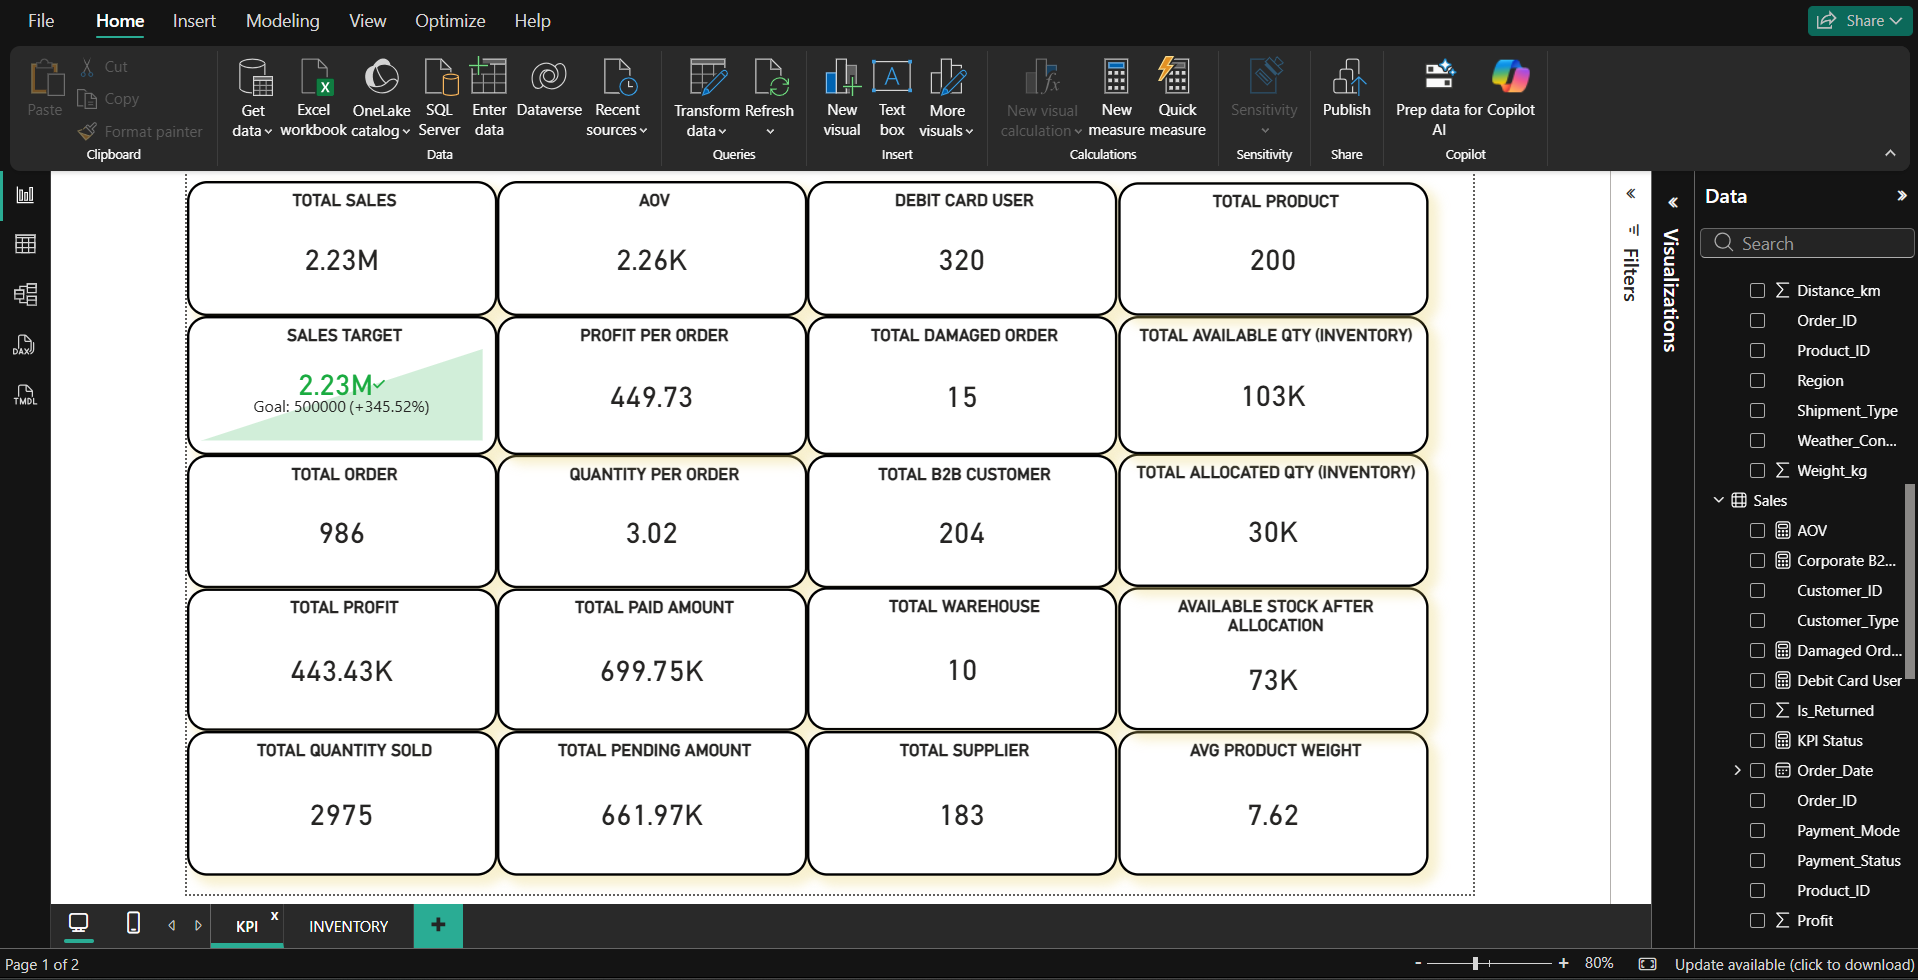

Layout of this report page (visuals, bound fields, positions):
{"tool":"powerbi","page":{"name":"KPI","canvas":[1280,720],"ordinal":0},"visuals":[{"type":"card","title":"TOTAL SALES","fields":{"Values":["Sum(Sales.Total_Sales)"]},"box":[0,9.6,308.7,134.5],"z":0},{"type":"kpi","title":"SALES TARGET ","fields":{"Goal":["Sales.Sales Target"],"Indicator":["Sales.Total Sales"],"TrendLine":["Sales.Order_Date.Variation.Date Hierarchy.Year"]},"box":[0,144.1,308.7,138.6],"z":1000},{"type":"card","title":"TOTAL ORDER","fields":{"Values":["Sales.Total Orders"]},"box":[0,282.7,308.7,133.1],"z":2000},{"type":"card","title":"TOTAL PROFIT","fields":{"Values":["Sales.Total Profit"]},"box":[0,415.8,308.7,141.3],"z":3000},{"type":"card","title":"TOTAL QUANTITY SOLD ","fields":{"Values":["Sales.Total Product Sold"]},"box":[0,557.1,308.7,144.1],"z":4000},{"type":"card","title":"AOV","fields":{"Values":["Sales.AOV"]},"box":[308.7,9.6,308.7,134.5],"z":5000},{"type":"card","title":"QUANTITY PER ORDER ","fields":{"Values":["Sales.Quantity Per Order"]},"box":[308.7,282.7,308.7,133.1],"z":6000},{"type":"card","title":"TOTAL PAID AMOUNT","fields":{"Values":["Sales.Total Paid Amount"]},"box":[308.7,415.8,308.7,141.3],"z":7000},{"type":"card","title":"TOTAL PENDING AMOUNT","fields":{"Values":["Sales.Total Pending Amount"]},"box":[308.7,557.1,308.7,144.1],"z":8000},{"type":"card","title":"PROFIT PER ORDER","fields":{"Values":["Sales.Profit Per Order"]},"box":[308.7,144.1,308.7,138.6],"z":9000},{"type":"card","title":"DEBIT CARD USER","fields":{"Values":["Sales.Debit Card User"]},"box":[617.5,9.6,308.7,134.5],"z":10000},{"type":"card","title":"TOTAL DAMAGED ORDER","fields":{"Values":["Sales.Damaged Orders"]},"box":[617.5,144.1,308.7,138.6],"z":11000},{"type":"card","title":"TOTAL B2B CUSTOMER ","fields":{"Values":["Sales.Corporate B2B Customer"]},"box":[617.5,282.7,308.7,133.1],"z":12000},{"type":"card","title":"TOTAL WAREHOUSE","fields":{"Values":["Inventry.Total warehouse"]},"box":[617.5,414.4,308.7,142.7],"z":12001},{"type":"card","title":"TOTAL SUPPLIER","fields":{"Values":["Inventry.Total supplier"]},"box":[617.5,557.1,308.7,144.1],"z":12002},{"type":"card","title":"AVG PRODUCT WEIGHT","fields":{"Values":["Avg(Inventry.Weight_kg)"]},"box":[926.2,557.1,308.7,144.1],"z":12003},{"type":"card","title":"AVAILABLE STOCK AFTER ALLOCATION","fields":{"Values":["Inventry.Available Stock After Allocation"]},"box":[926.2,414.4,308.7,142.7],"z":12004},{"type":"card","title":"TOTAL ALLOCATED QTY (INVENTORY)","fields":{"Values":["Inventry.Total Allocated qty"]},"box":[926.2,281.3,308.7,133.1],"z":12005},{"type":"card","title":"TOTAL AVAILABLE QTY (INVENTORY)","fields":{"Values":["Inventry.Total available quantity"]},"box":[926.2,144.1,308.7,137.2],"z":12006},{"type":"card","title":"TOTAL PRODUCT","fields":{"Values":["Inventry.Total Product"]},"box":[926.2,11,308.7,133.1],"z":12007}]}

Visuals, with their boxes on the page's 1280x720 design canvas (x1, y1, x2, y2). These are canvas units, not pixel positions in the 1918x980 screenshot, which may show the page scaled, cropped or inside an application window:
"TOTAL SALES" card: [left=0, top=10, right=309, bottom=144]
"SALES TARGET " kpi: [left=0, top=144, right=309, bottom=283]
"TOTAL ORDER" card: [left=0, top=283, right=309, bottom=416]
"TOTAL PROFIT" card: [left=0, top=416, right=309, bottom=557]
"TOTAL QUANTITY SOLD " card: [left=0, top=557, right=309, bottom=701]
"AOV" card: [left=309, top=10, right=617, bottom=144]
"QUANTITY PER ORDER " card: [left=309, top=283, right=617, bottom=416]
"TOTAL PAID AMOUNT" card: [left=309, top=416, right=617, bottom=557]
"TOTAL PENDING AMOUNT" card: [left=309, top=557, right=617, bottom=701]
"PROFIT PER ORDER" card: [left=309, top=144, right=617, bottom=283]
"DEBIT CARD USER" card: [left=618, top=10, right=926, bottom=144]
"TOTAL DAMAGED ORDER" card: [left=618, top=144, right=926, bottom=283]
"TOTAL B2B CUSTOMER " card: [left=618, top=283, right=926, bottom=416]
"TOTAL WAREHOUSE" card: [left=618, top=414, right=926, bottom=557]
"TOTAL SUPPLIER" card: [left=618, top=557, right=926, bottom=701]
"AVG PRODUCT WEIGHT" card: [left=926, top=557, right=1235, bottom=701]
"AVAILABLE STOCK AFTER ALLOCATION" card: [left=926, top=414, right=1235, bottom=557]
"TOTAL ALLOCATED QTY (INVENTORY)" card: [left=926, top=281, right=1235, bottom=414]
"TOTAL AVAILABLE QTY (INVENTORY)" card: [left=926, top=144, right=1235, bottom=281]
"TOTAL PRODUCT" card: [left=926, top=11, right=1235, bottom=144]
